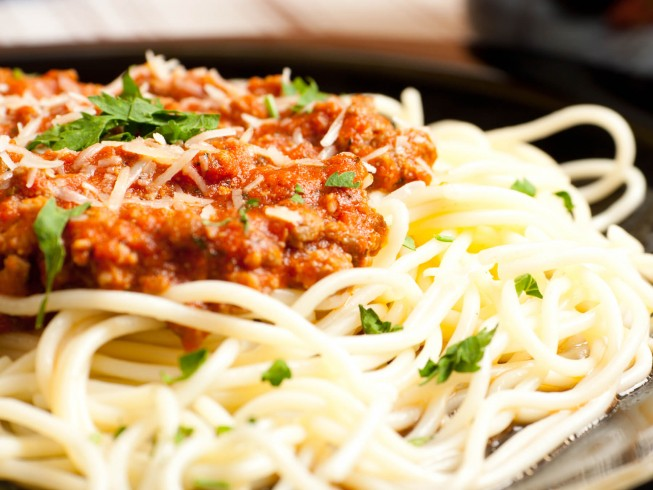plain spaghetti: (76, 307, 576, 467)
